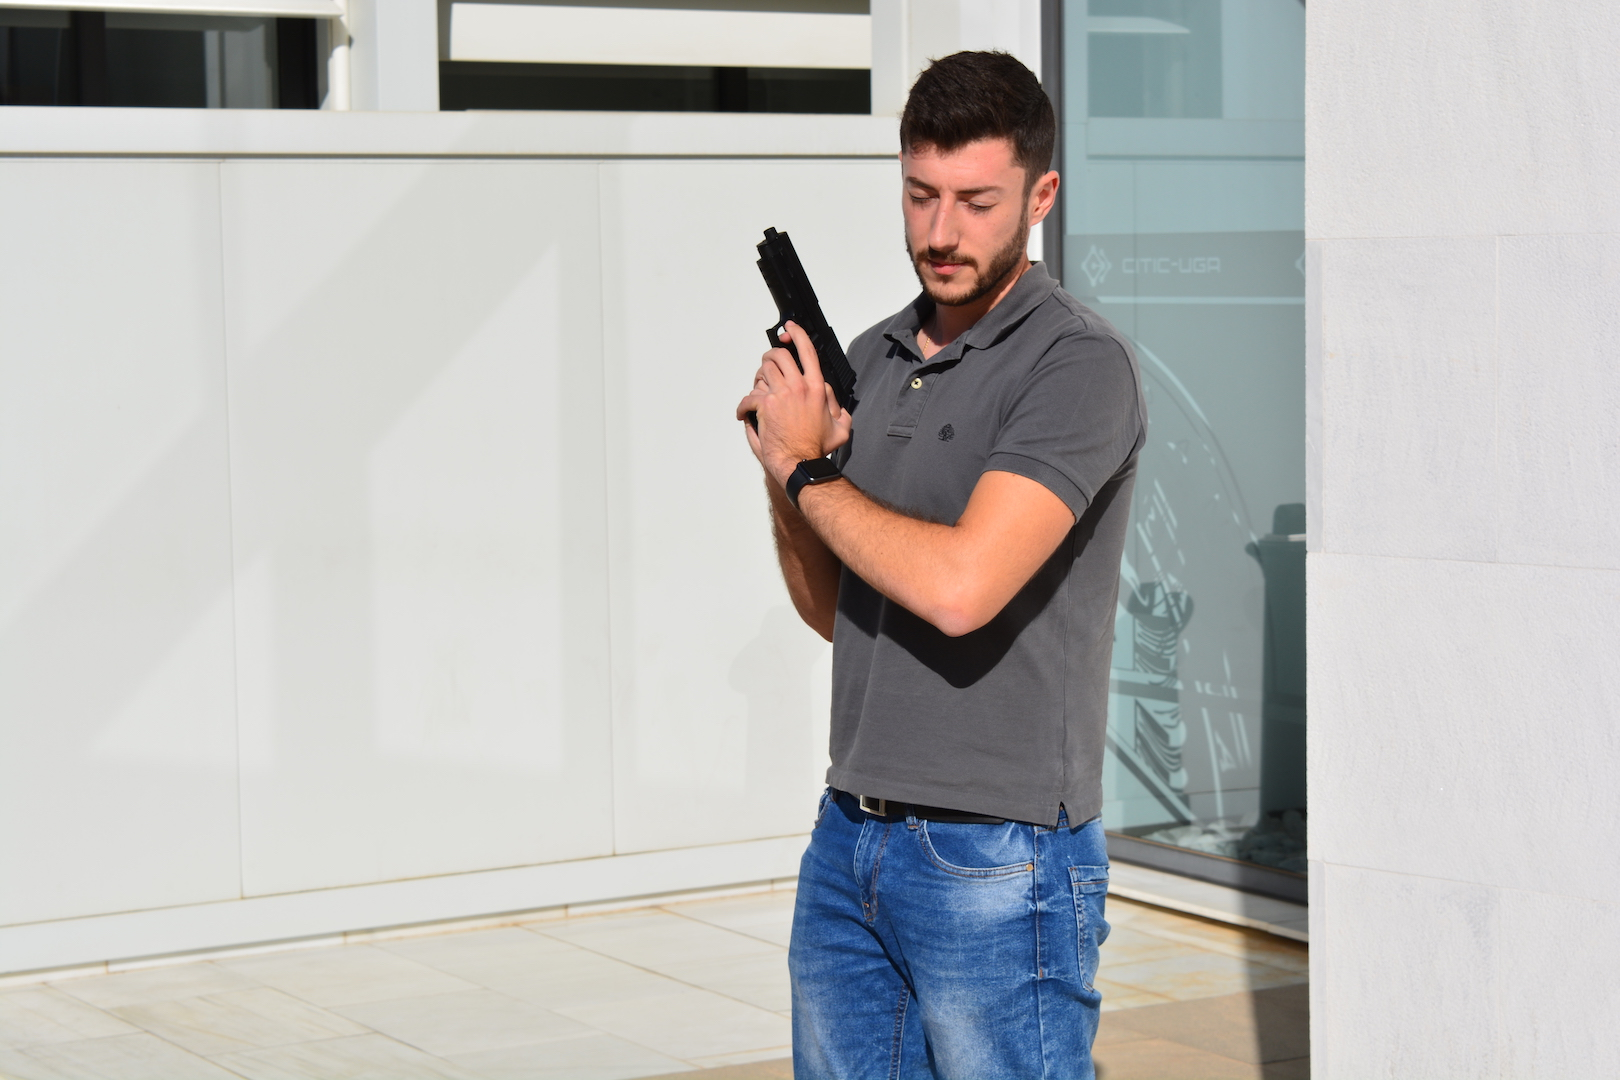pistol: (745, 225, 858, 438)
